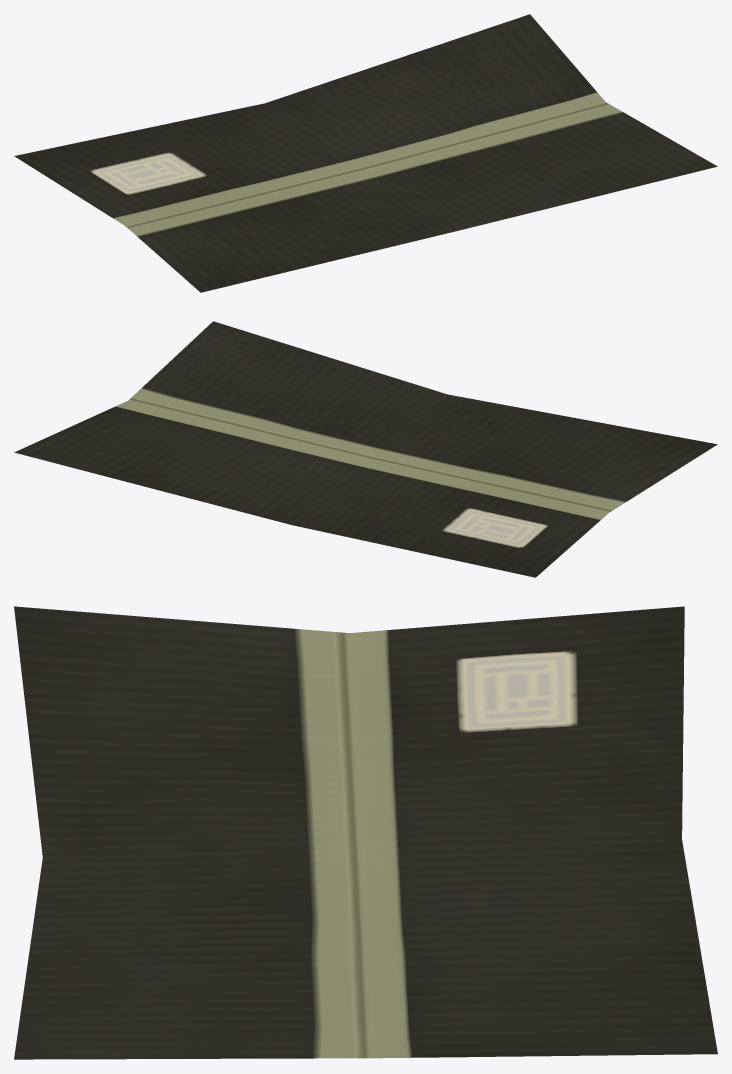
The model's file is p_mesh_onionbox_part01.fbx.
3 views of the same model, one above another, from view 1: azimuth 30°, elevation 25°; view 2: azimuth 150°, elevation 25°; view 3: azimuth 270°, elevation 25° (orthographic). The views are drawn at different scales.
Visible parts, largest first — view 1: p_mesh_containers_onionbox_part01; view 2: p_mesh_containers_onionbox_part01; view 3: p_mesh_containers_onionbox_part01.
Part boxes in pixels (box(x1,y1,x2,y2)): p_mesh_containers_onionbox_part01: box(14, 14, 717, 292); p_mesh_containers_onionbox_part01: box(14, 321, 717, 577); p_mesh_containers_onionbox_part01: box(14, 606, 717, 1059).
Size of the model in its own units: 6.18 by 0.1754 by 4.
